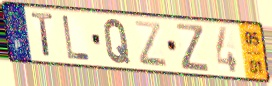4: (215, 25, 239, 76)
L: (60, 14, 92, 62)
Q: (103, 17, 132, 65)
T: (30, 11, 56, 60)
Z: (132, 19, 170, 69), (175, 21, 211, 73)
